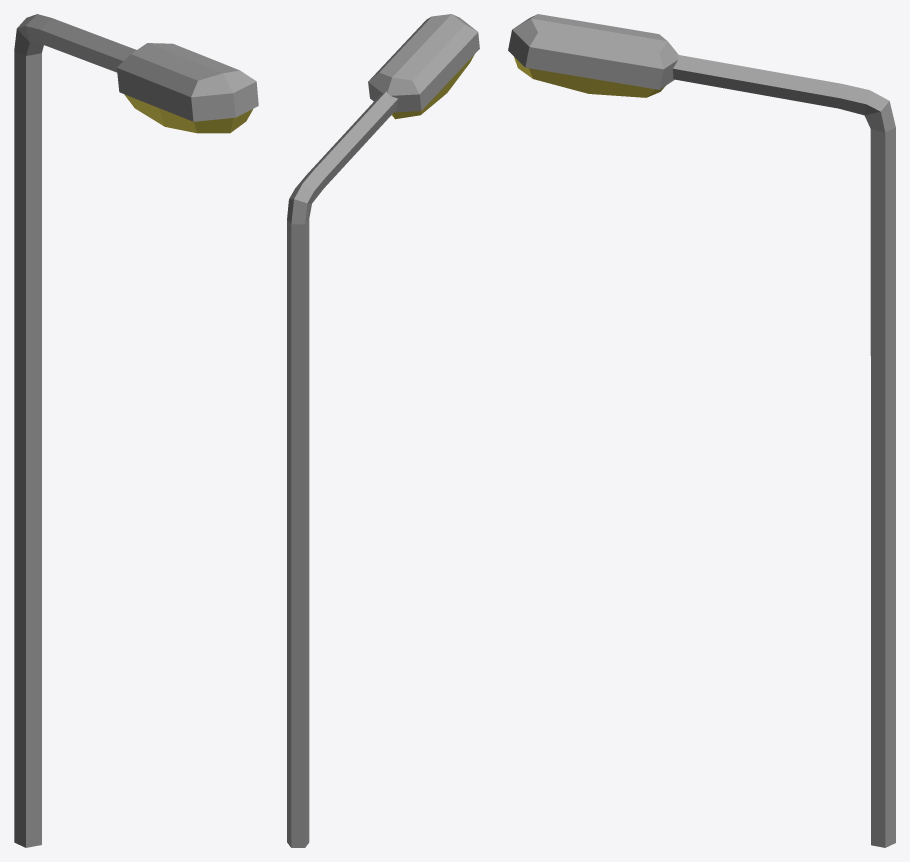
Rendered from pillar_005.glb.
The picture shows the model from 3 angles, left to right: view 1: azimuth 30°, elevation 25°; view 2: azimuth 150°, elevation 25°; view 3: azimuth 270°, elevation 25°; orthographic projection. The views are drawn at different scales.
Visible parts, largest first — view 1: pillar_005; view 2: pillar_005; view 3: pillar_005.
Part boxes in pixels (x1,y1,x2,y2): pillar_005: (14,14,258,847); pillar_005: (287,14,479,847); pillar_005: (508,14,895,847).
Size of the model in its own units: 0.3904 by 5.18 by 2.21.
Materials: 1 (1 with a texture image).
